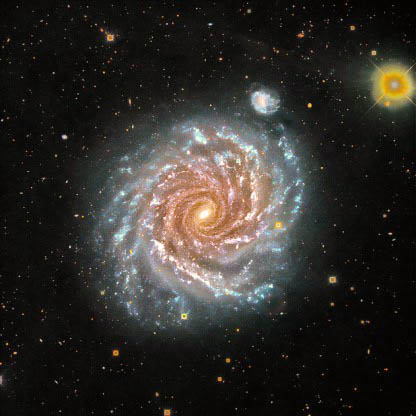NGC 1232: (69, 82, 319, 341)
